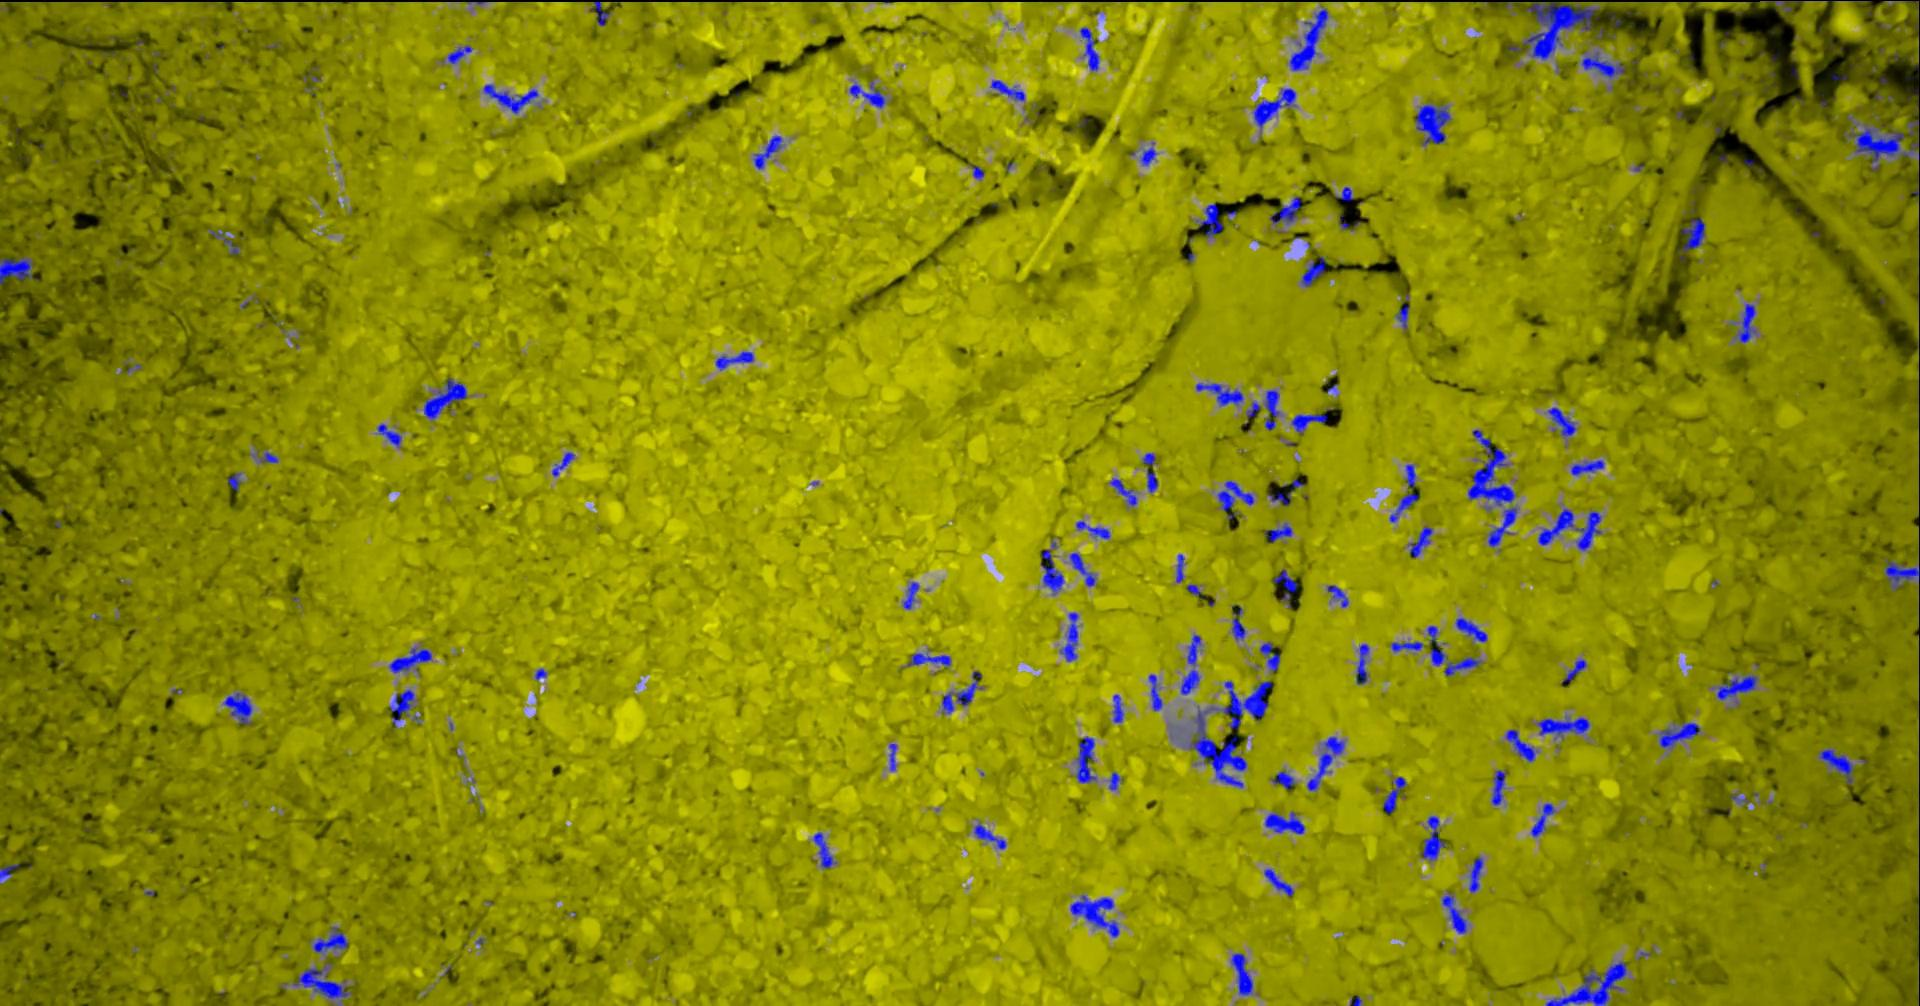ant: (1429, 625, 1483, 674), (1291, 8, 1330, 70), (295, 967, 353, 1005), (1308, 735, 1346, 790), (1072, 895, 1120, 937), (425, 379, 469, 419), (943, 669, 984, 713), (1255, 88, 1297, 127), (485, 84, 540, 113), (1219, 480, 1255, 520), (1417, 104, 1451, 145), (1539, 508, 1575, 545), (1538, 716, 1591, 739), (1820, 748, 1855, 782), (1182, 634, 1203, 694), (1677, 217, 1705, 260), (1583, 51, 1627, 77), (390, 647, 433, 673), (1490, 506, 1517, 546), (1443, 890, 1468, 934), (1197, 382, 1244, 405), (1423, 815, 1448, 860), (1, 257, 39, 285), (1293, 408, 1335, 433), (1576, 511, 1603, 550), (1043, 549, 1065, 594), (1886, 559, 1920, 589), (1661, 721, 1702, 747), (1077, 735, 1098, 782), (851, 80, 886, 108), (1270, 478, 1305, 506), (1232, 951, 1255, 995), (391, 688, 417, 727), (756, 135, 783, 169), (1718, 674, 1757, 699), (1266, 810, 1305, 835), (314, 926, 349, 953), (225, 692, 254, 724), (1507, 729, 1537, 761), (1275, 569, 1299, 607), (1390, 492, 1420, 522), (1384, 776, 1408, 813), (814, 831, 838, 868), (1070, 553, 1097, 586), (1200, 202, 1224, 238), (1062, 612, 1079, 661), (1271, 196, 1302, 224), (1265, 868, 1295, 895), (975, 823, 1008, 848), (1531, 801, 1556, 836), (1081, 27, 1100, 70), (1736, 304, 1757, 342), (1549, 406, 1577, 436), (210, 227, 240, 254), (1457, 617, 1490, 641), (1111, 478, 1138, 506), (1303, 255, 1327, 286), (717, 351, 756, 370), (1410, 526, 1432, 558), (992, 80, 1026, 100), (1077, 520, 1111, 539), (1266, 389, 1281, 431), (1261, 641, 1281, 672), (552, 451, 577, 476), (909, 653, 952, 667), (1563, 659, 1589, 682), (1265, 522, 1293, 542), (1493, 768, 1509, 805), (378, 423, 403, 446), (590, 0, 612, 25), (1357, 643, 1370, 683), (1903, 0, 1920, 30), (1572, 460, 1605, 475), (1150, 674, 1164, 710), (1470, 856, 1484, 892), (1272, 770, 1297, 790), (1328, 586, 1350, 607), (1233, 606, 1247, 639), (450, 44, 474, 64), (1768, 0, 1806, 11), (904, 580, 919, 608), (1, 862, 22, 883), (1142, 142, 1158, 165), (1340, 213, 1363, 230), (1397, 304, 1411, 329), (1392, 641, 1423, 652), (1114, 694, 1125, 721), (229, 473, 243, 492), (1148, 469, 1159, 492), (1337, 185, 1354, 201), (1177, 554, 1186, 582), (1407, 464, 1417, 488), (970, 164, 985, 179), (1110, 771, 1123, 789), (262, 451, 279, 462), (890, 743, 898, 770), (1248, 401, 1261, 417), (1189, 584, 1203, 596), (1144, 452, 1157, 464), (1919, 892, 1920, 942)
